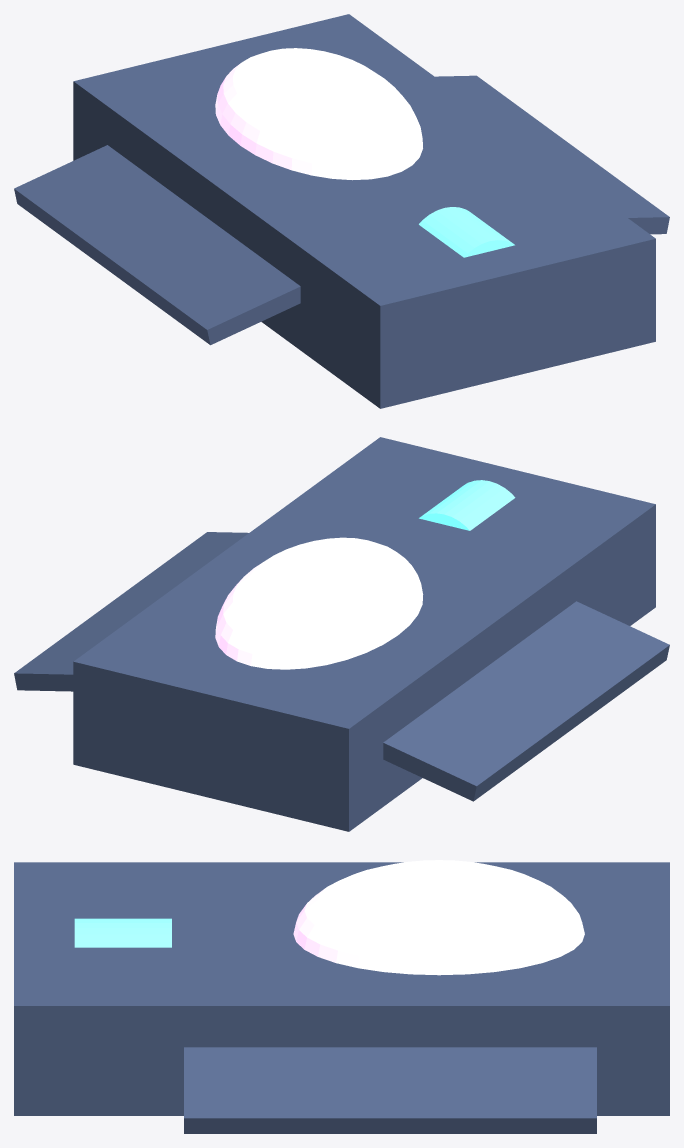
File: valkyrie.glb
3 views of the same model, one above another, from view 1: azimuth 30°, elevation 25°; view 2: azimuth 150°, elevation 25°; view 3: azimuth 270°, elevation 25° (orthographic). The views are drawn at different scales.
Parts seen in each view (by area): view 1: Cube, Cube.002, Sphere, Cube.001, Cylinder.002; view 2: Cube, Cube.002, Sphere, Cube.001, Cylinder.002; view 3: Cube, Cube.001, Sphere, Cylinder.002.
Boxes of the visible parts, <box> form: Cube: <box>73,14,655,408</box>; Cube.002: <box>14,145,300,345</box>; Sphere: <box>215,48,422,180</box>; Cube.001: <box>435,75,669,234</box>; Cylinder.002: <box>419,207,514,257</box>; Cube: <box>73,437,655,831</box>; Cube.002: <box>383,601,669,801</box>; Sphere: <box>215,537,423,669</box>; Cube.001: <box>14,532,248,691</box>; Cylinder.002: <box>419,480,515,530</box>; Cube: <box>14,862,669,1115</box>; Cube.001: <box>184,1047,596,1133</box>; Sphere: <box>293,860,584,975</box>; Cylinder.002: <box>74,918,171,947</box>.
Size of the model in its own units: 2.35 by 0.78 by 2.7.
